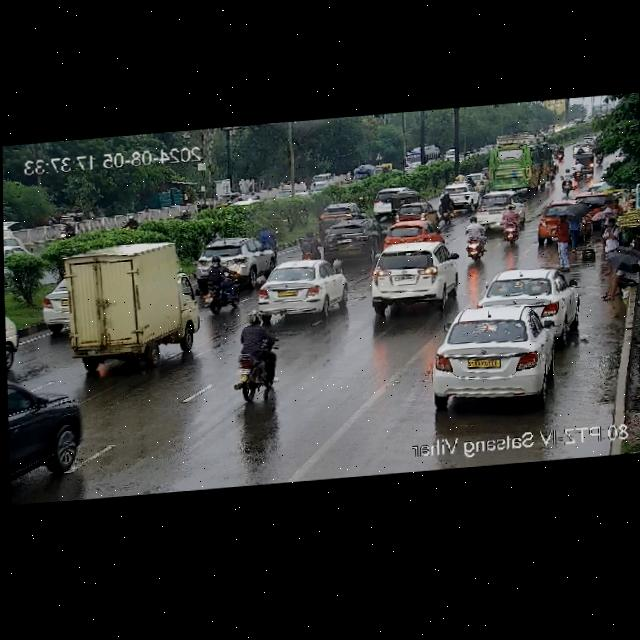bus: (486, 132, 552, 190), (401, 144, 438, 173)
car: (423, 302, 557, 406), (7, 370, 82, 489), (360, 242, 457, 317), (246, 256, 345, 320), (480, 265, 574, 329), (195, 234, 273, 279), (321, 219, 375, 258), (536, 196, 579, 244), (380, 220, 442, 247), (601, 260, 640, 302), (38, 279, 68, 328), (475, 189, 521, 219), (315, 201, 355, 227), (395, 198, 433, 224), (442, 182, 475, 205), (371, 190, 393, 216), (391, 189, 419, 208), (573, 154, 595, 176), (213, 191, 241, 208), (637, 257, 638, 260)
motorcycle: (230, 312, 277, 406), (195, 255, 239, 317), (464, 215, 492, 261), (498, 206, 522, 242), (437, 193, 457, 224), (297, 230, 319, 257), (559, 168, 574, 194), (572, 158, 584, 181)
person: (598, 212, 624, 271), (555, 212, 574, 265)
truck: (57, 235, 202, 367)
